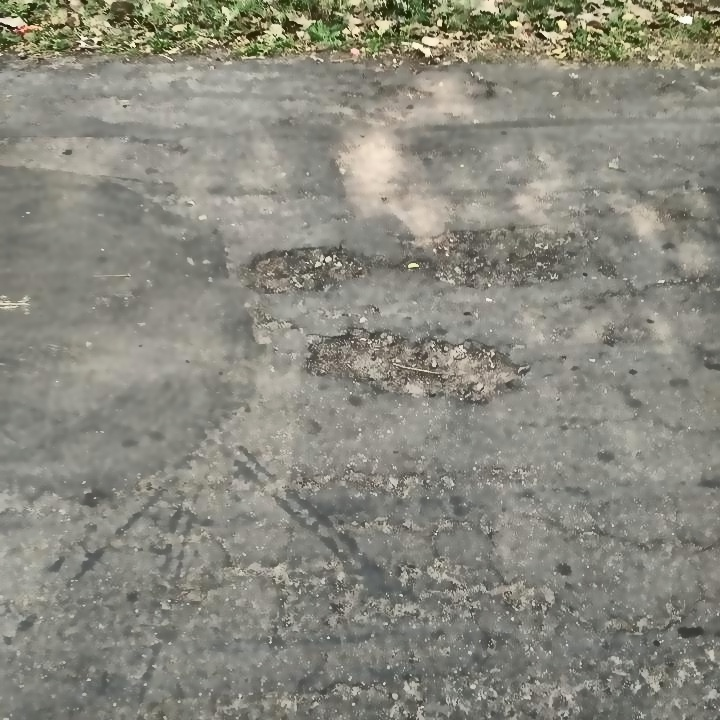pothole: (302, 322, 532, 405), (420, 222, 580, 291), (246, 239, 368, 297)
